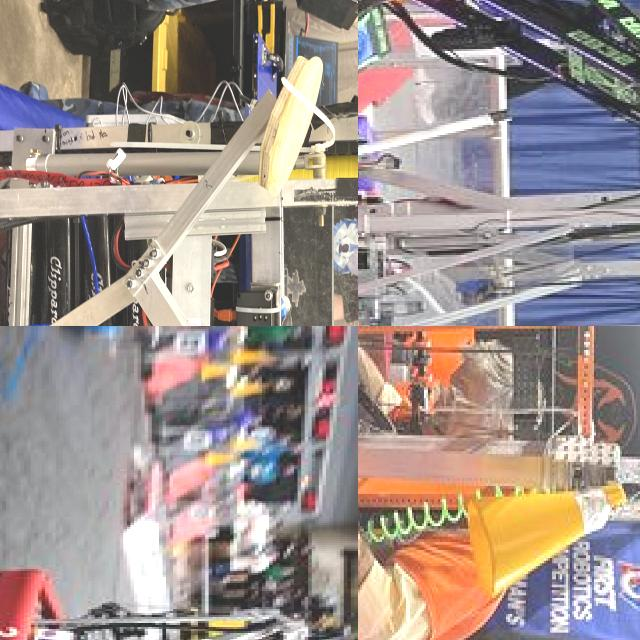FRC-Robots: (0, 39, 358, 326), (358, 0, 640, 285), (358, 326, 585, 640), (358, 138, 640, 326), (0, 571, 349, 640)
